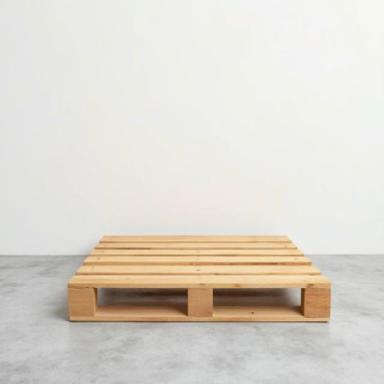pallet: (67, 235, 331, 322), (213, 288, 301, 306), (97, 288, 187, 305)
